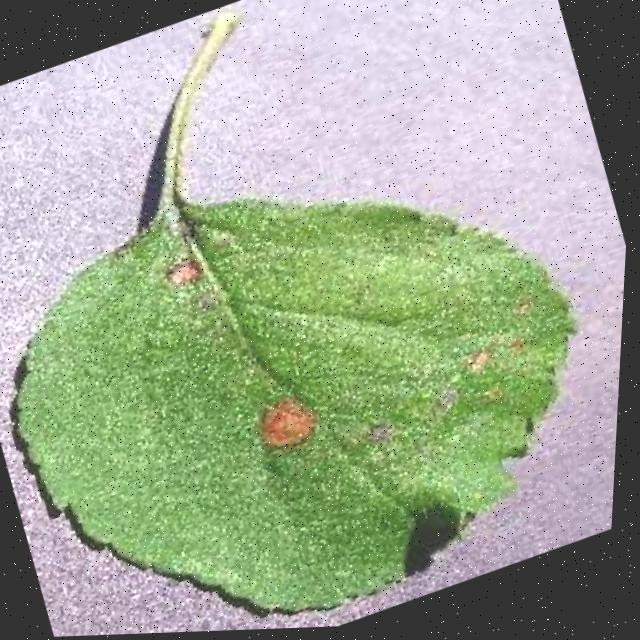black_rot: (239, 367, 348, 474), (150, 232, 230, 316)
